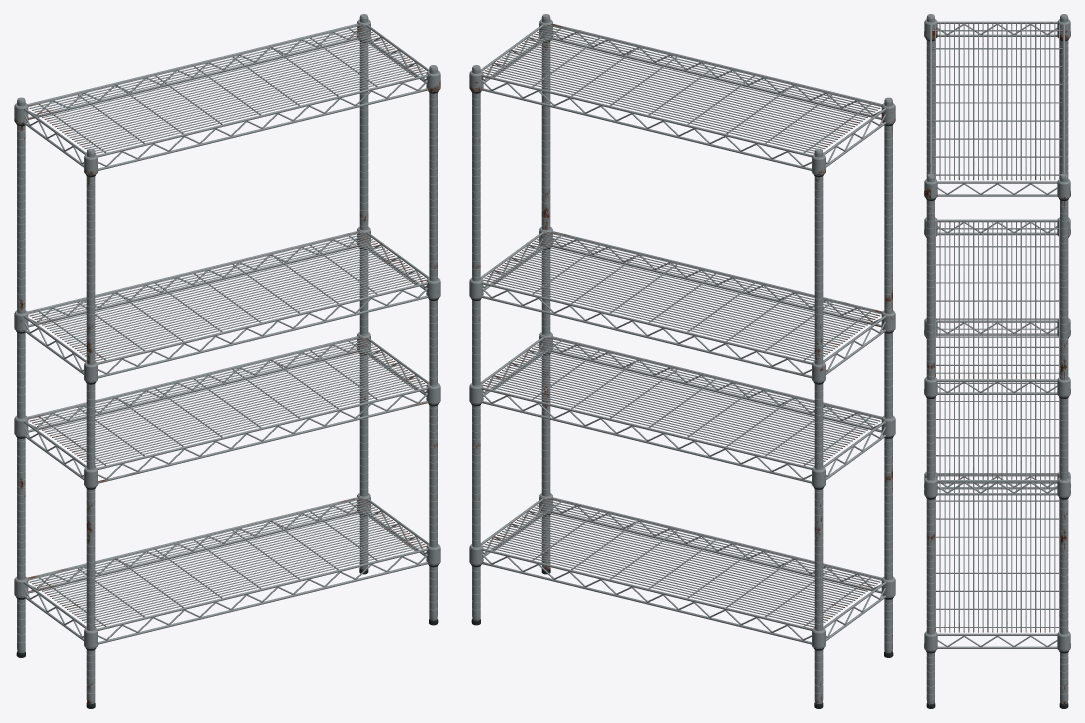
The model's file is Rusted_Wire_Rack.glb.
3 renders of one model, left to right at view 1: azimuth 30°, elevation 25°; view 2: azimuth 150°, elevation 25°; view 3: azimuth 270°, elevation 25°, orthographic. The views are drawn at different scales.
Parts seen in each view (by area): view 1: Shelf_04 | wire grid and zigzag trusses, Shelf_02 | wire grid and zigzag trusses, Shelf_03 | wire grid and zigzag trusses, Shelf_01 | wire grid and zigzag trusses, Frame | four grooved posts, Collars | shelf corner sleeves; view 2: Shelf_04 | wire grid and zigzag trusses, Shelf_02 | wire grid and zigzag trusses, Shelf_03 | wire grid and zigzag trusses, Shelf_01 | wire grid and zigzag trusses, Frame | four grooved posts, Collars | shelf corner sleeves; view 3: Shelf_04 | wire grid and zigzag trusses, Shelf_03 | wire grid and zigzag trusses, Frame | four grooved posts, Shelf_01 | wire grid and zigzag trusses, Shelf_02 | wire grid and zigzag trusses, Collars | shelf corner sleeves.
Boxes of the visible parts, x1,y1,x2,y2 form: Shelf_04 | wire grid and zigzag trusses: [23, 23, 428, 170]; Shelf_02 | wire grid and zigzag trusses: [23, 336, 429, 483]; Shelf_03 | wire grid and zigzag trusses: [23, 231, 429, 378]; Shelf_01 | wire grid and zigzag trusses: [23, 497, 429, 644]; Frame | four grooved posts: [17, 14, 437, 703]; Collars | shelf corner sleeves: [14, 19, 440, 648]; Shelf_04 | wire grid and zigzag trusses: [481, 23, 886, 170]; Shelf_02 | wire grid and zigzag trusses: [480, 336, 886, 483]; Shelf_03 | wire grid and zigzag trusses: [480, 231, 886, 378]; Shelf_01 | wire grid and zigzag trusses: [480, 497, 886, 644]; Frame | four grooved posts: [472, 14, 892, 703]; Collars | shelf corner sleeves: [469, 19, 895, 648]; Shelf_04 | wire grid and zigzag trusses: [929, 21, 1065, 196]; Shelf_03 | wire grid and zigzag trusses: [935, 219, 1059, 394]; Frame | four grooved posts: [926, 14, 1068, 704]; Shelf_01 | wire grid and zigzag trusses: [935, 474, 1059, 648]; Shelf_02 | wire grid and zigzag trusses: [935, 320, 1059, 495]; Collars | shelf corner sleeves: [924, 19, 1070, 651].
Size of the model in its own units: 1.2 by 1.8 by 0.45.
Materials: 2 (1 with a texture image).
